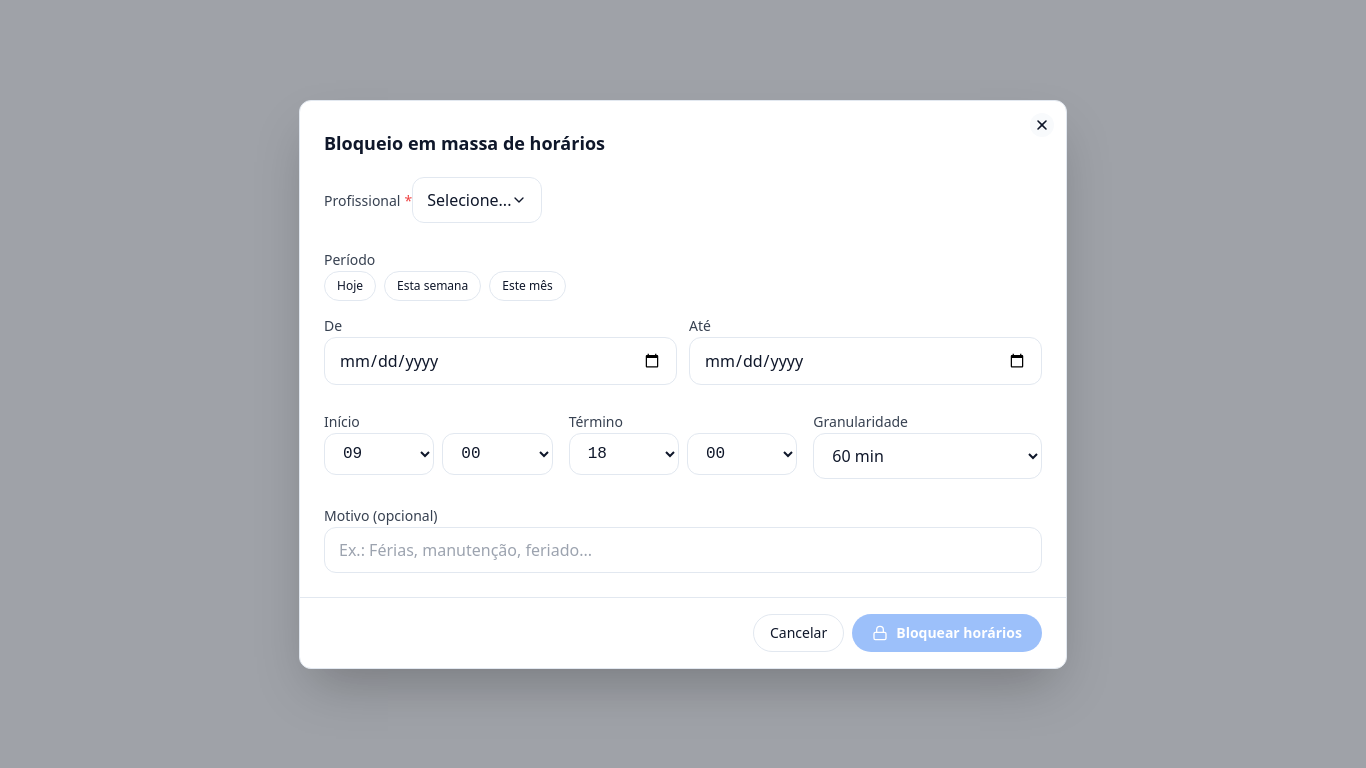
Test: SlotBulkBlockModal › range cruzando slot booked não quebra a UI e mostra o aviso de skipped_booked
Click the button "Selecione...": [477, 200] box [412,176,542,222]
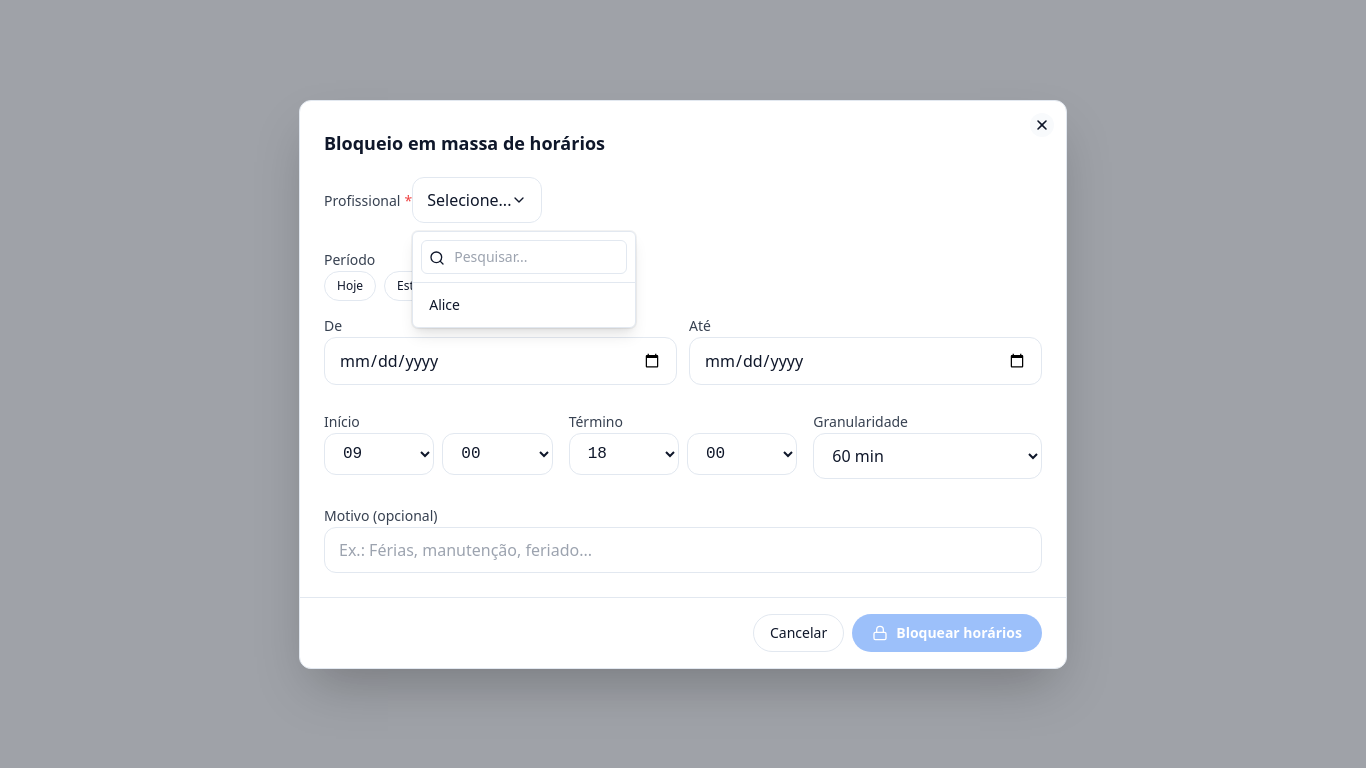
Click the button "Alice": [524, 304] box [413,286,635,322]
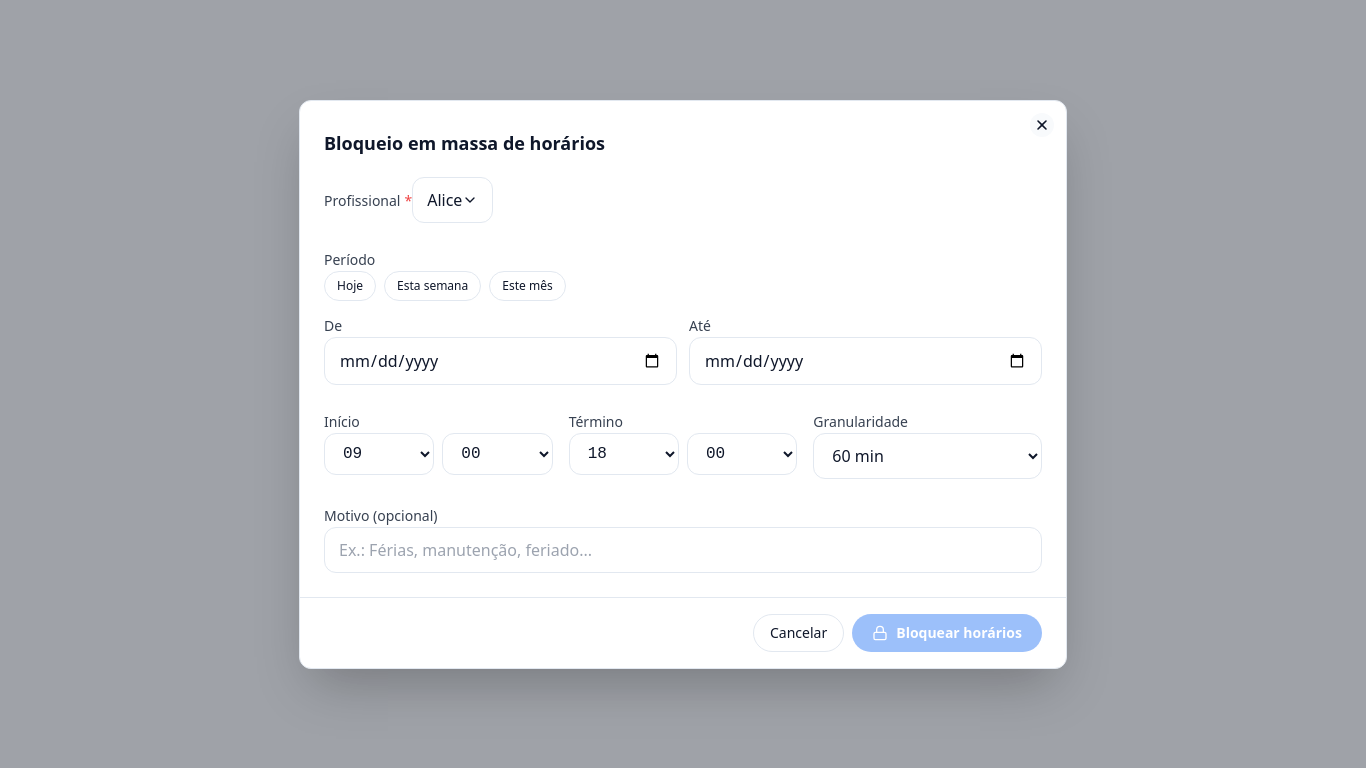
In the 1st date field: [500, 360] box [324,336,677,384], type "2026-08-01"
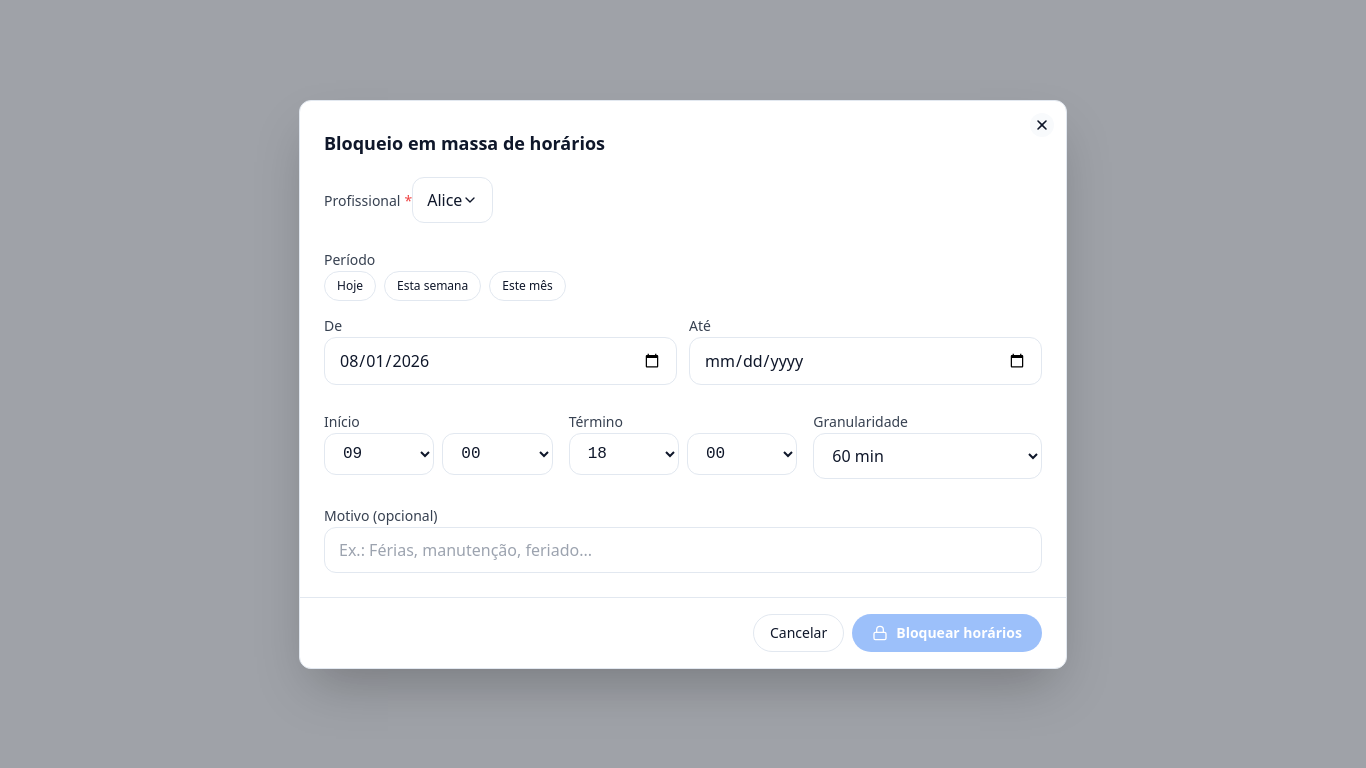
In the date field below "Até": [866, 360] box [689,336,1042,384], type "2026-08-07"
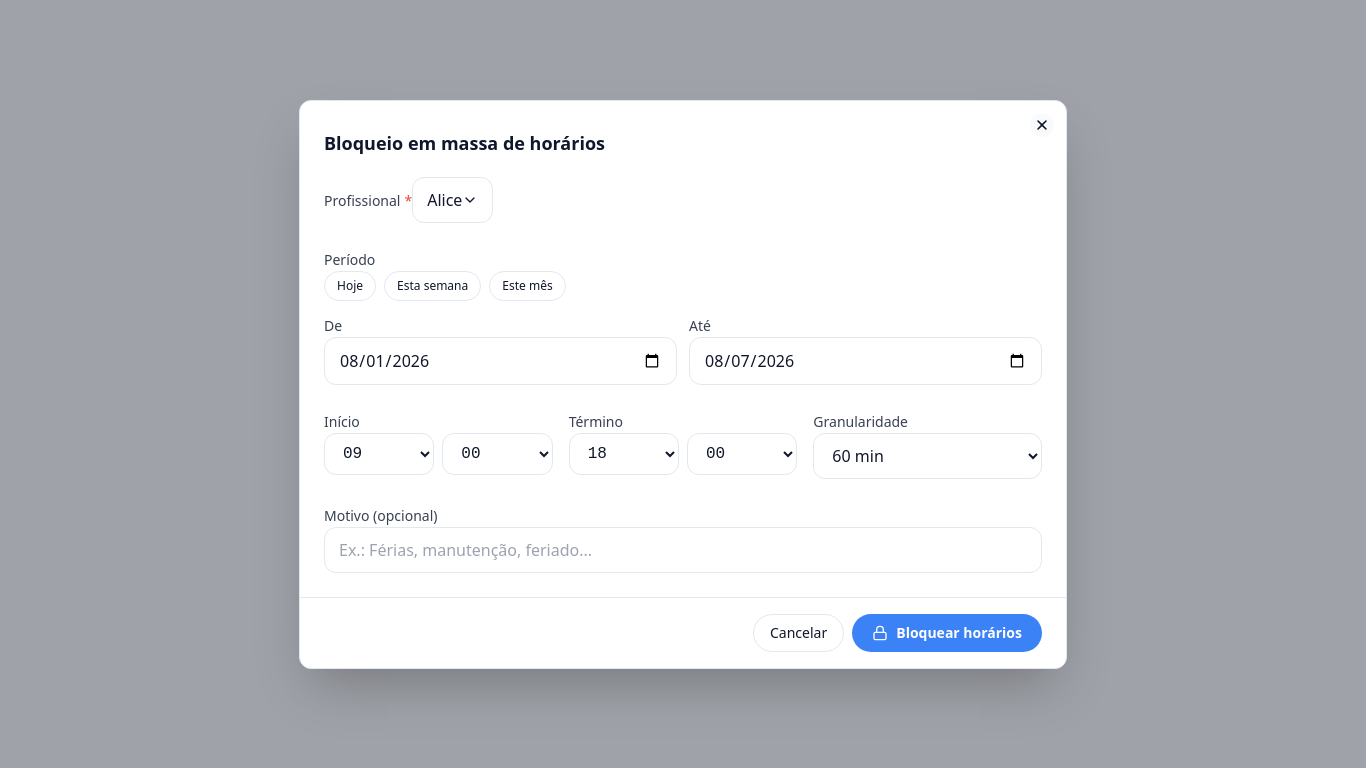
Click the button "Bloquear horários": [947, 632] box [852,614,1042,652]
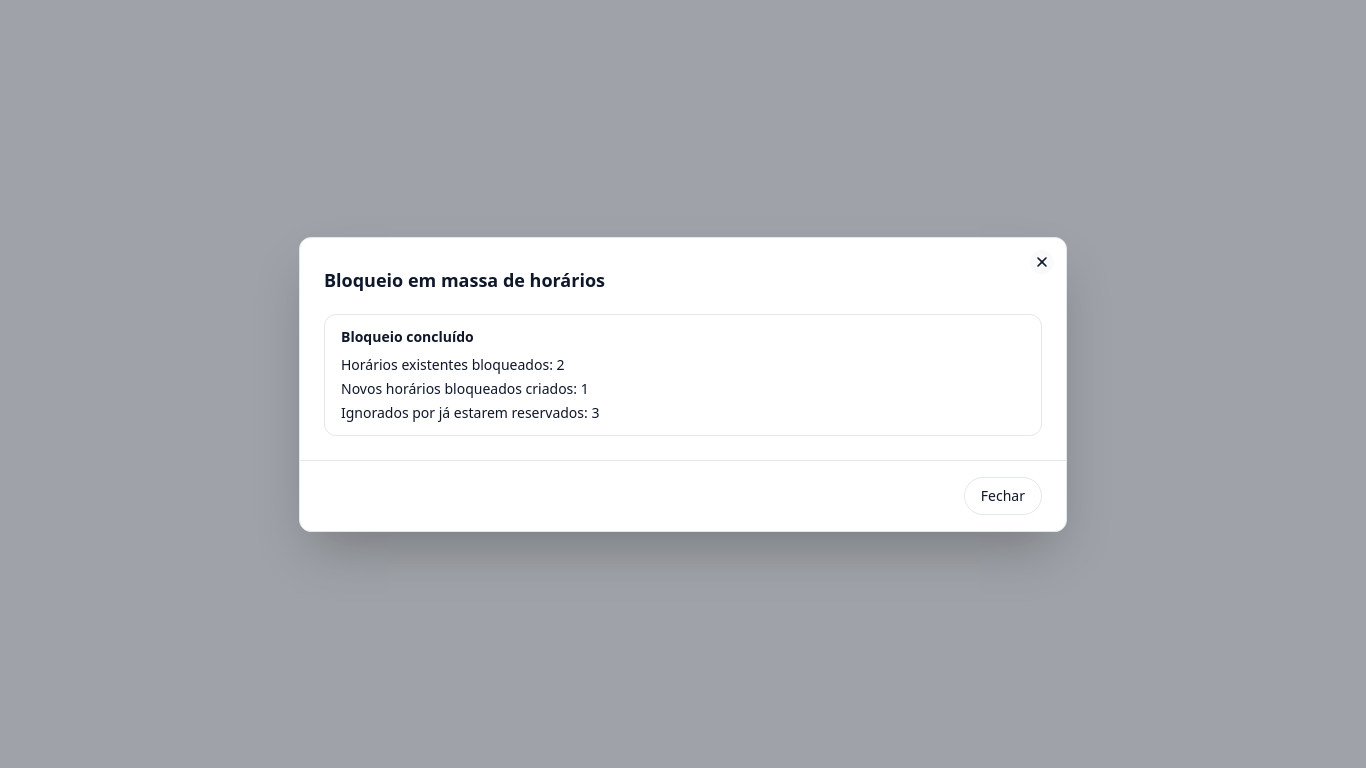
Expected: the list item "Ignorados por já estarem reservados: 3" is shown, [341,402,600,422]
